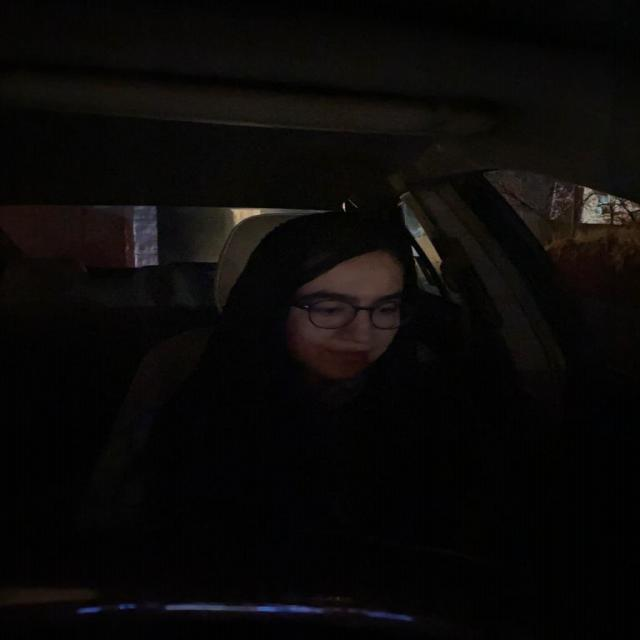person: (242, 205, 429, 390)
